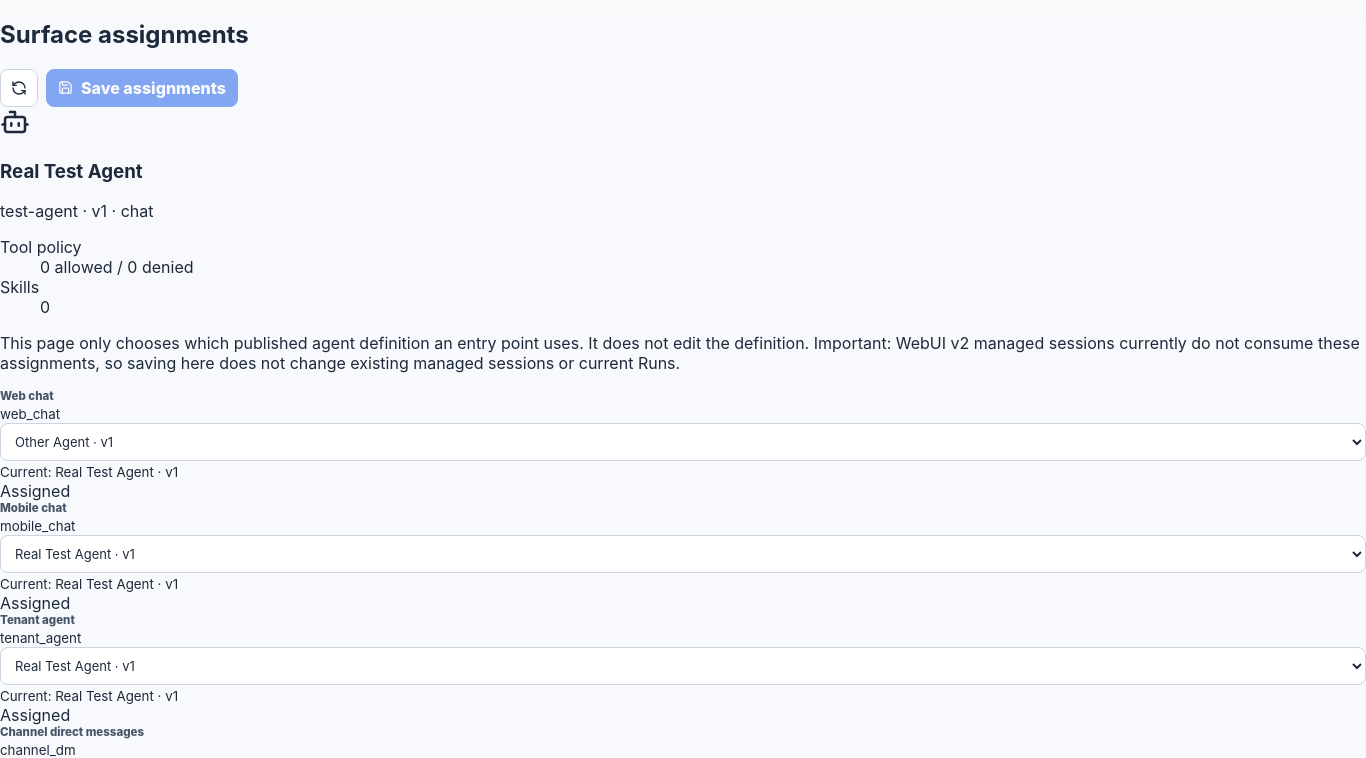
Test case: v2 profile settings API workflows › assigns a published version id and confirms writes with readback
Select "Other Agent · v1" in the dropdown with id "assignment-web_chat" at coordinates (683, 442), box [0,423,1365,461]
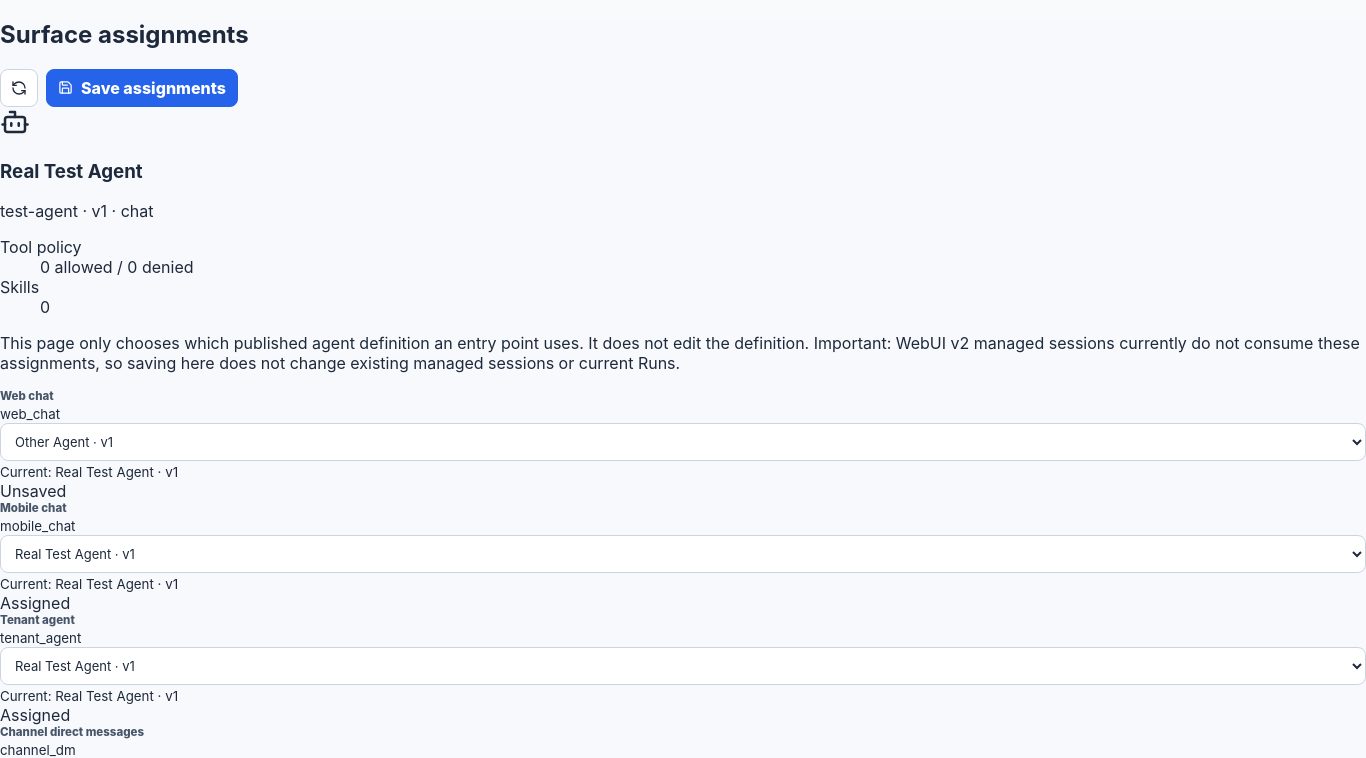
Click the button "Save assignments" at coordinates (142, 88), box [46,69,238,107]
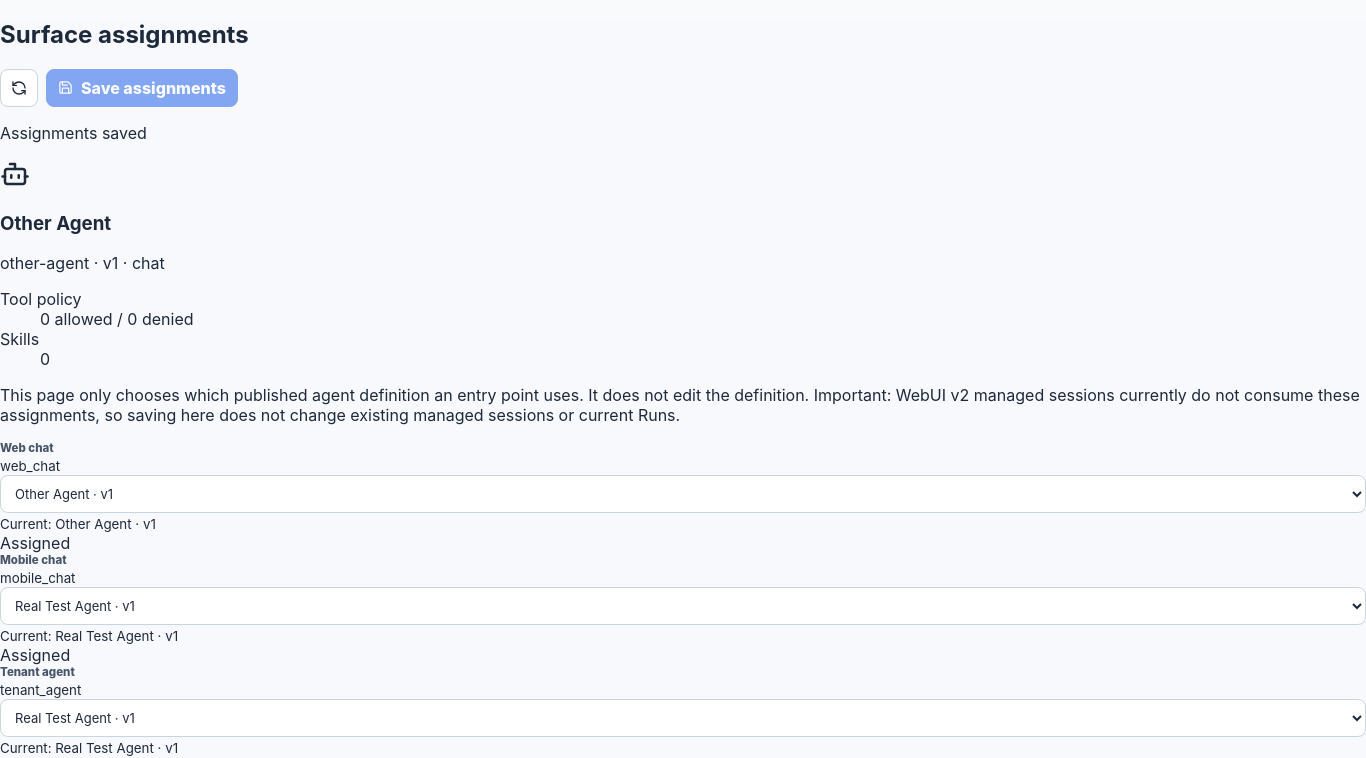
Now the element with class "settings-agent-overview" shows "Other Agent", box [0,212,111,234]
